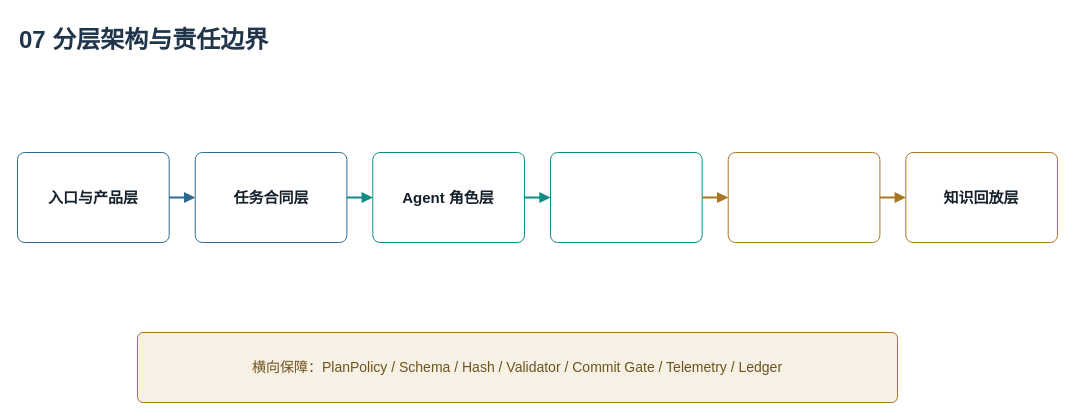
Some shapes in this 1075 by 420 pixel diagram are drawn without their labels. The shapes that lost their labels are listed below. From the top down, each one's box as (x1, y1, x2, y2) in pixels, then its label:
(550, 152, 702, 242): 控制调度层
(727, 152, 880, 242): 状态产物层
